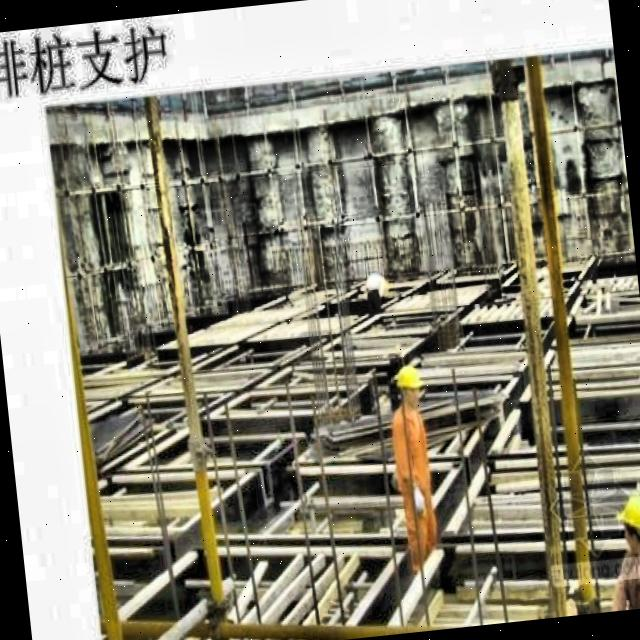helmet: (396, 360, 428, 416), (616, 486, 640, 555)
